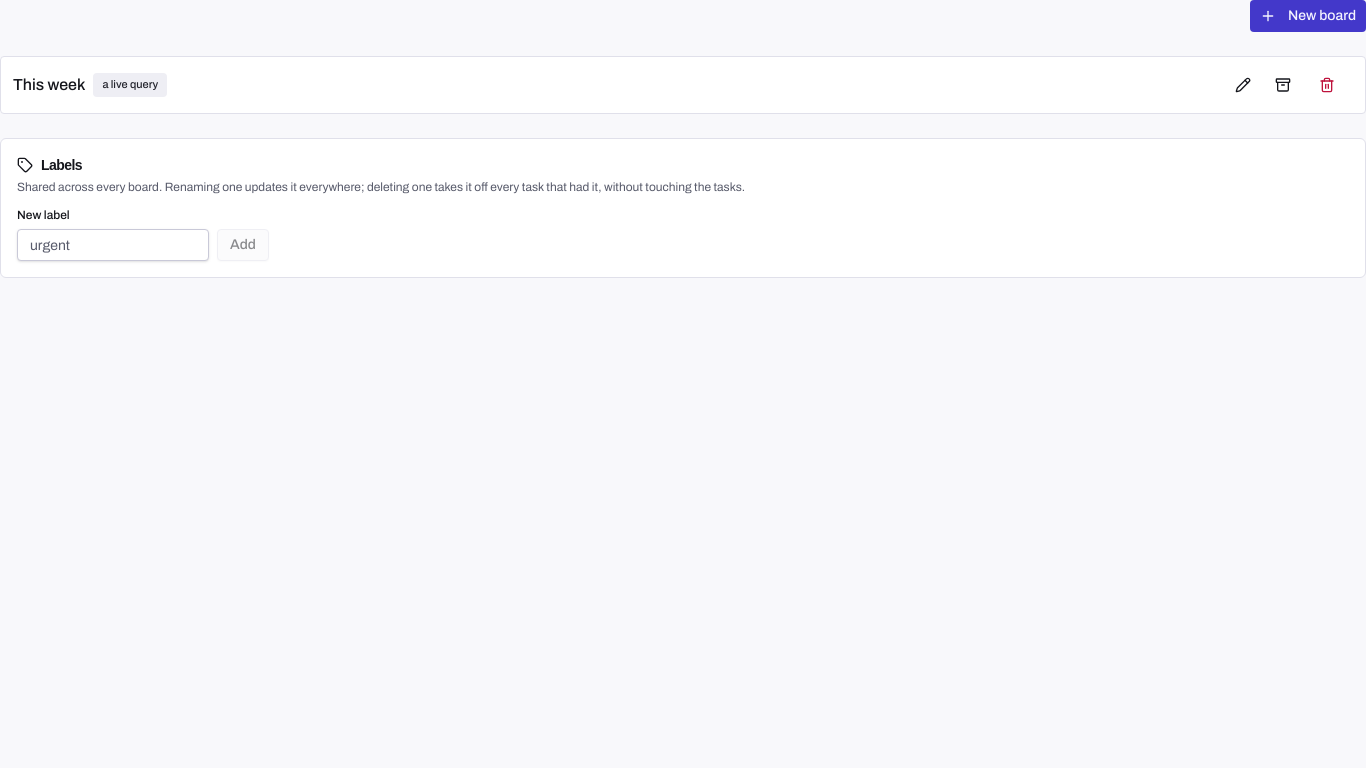
Test: BoardsList › opens the create dialog from the header "New board" button
The image size is (1366, 768).
Click the button "New board": (1308, 16) [1250,0,1365,32]
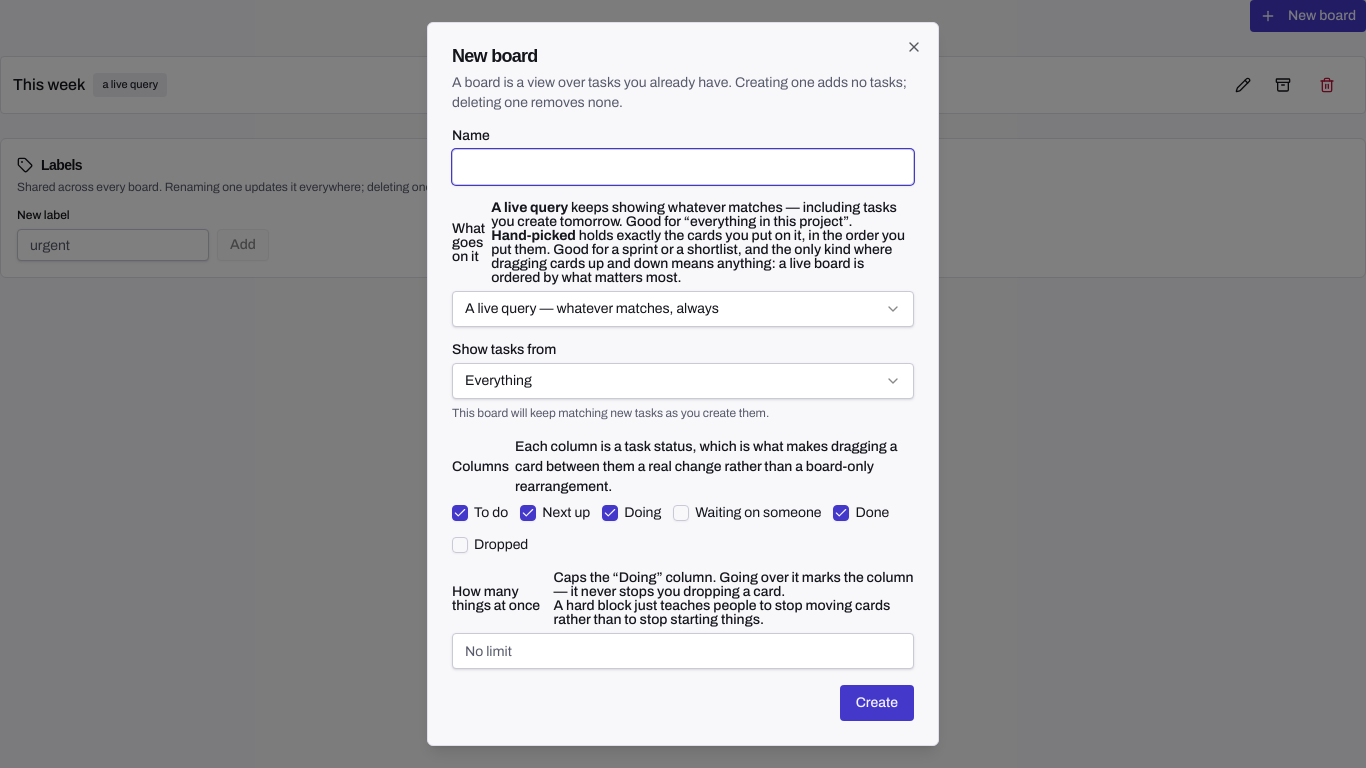
expect the heading "New board" is shown: met, box [452,46,538,66]
